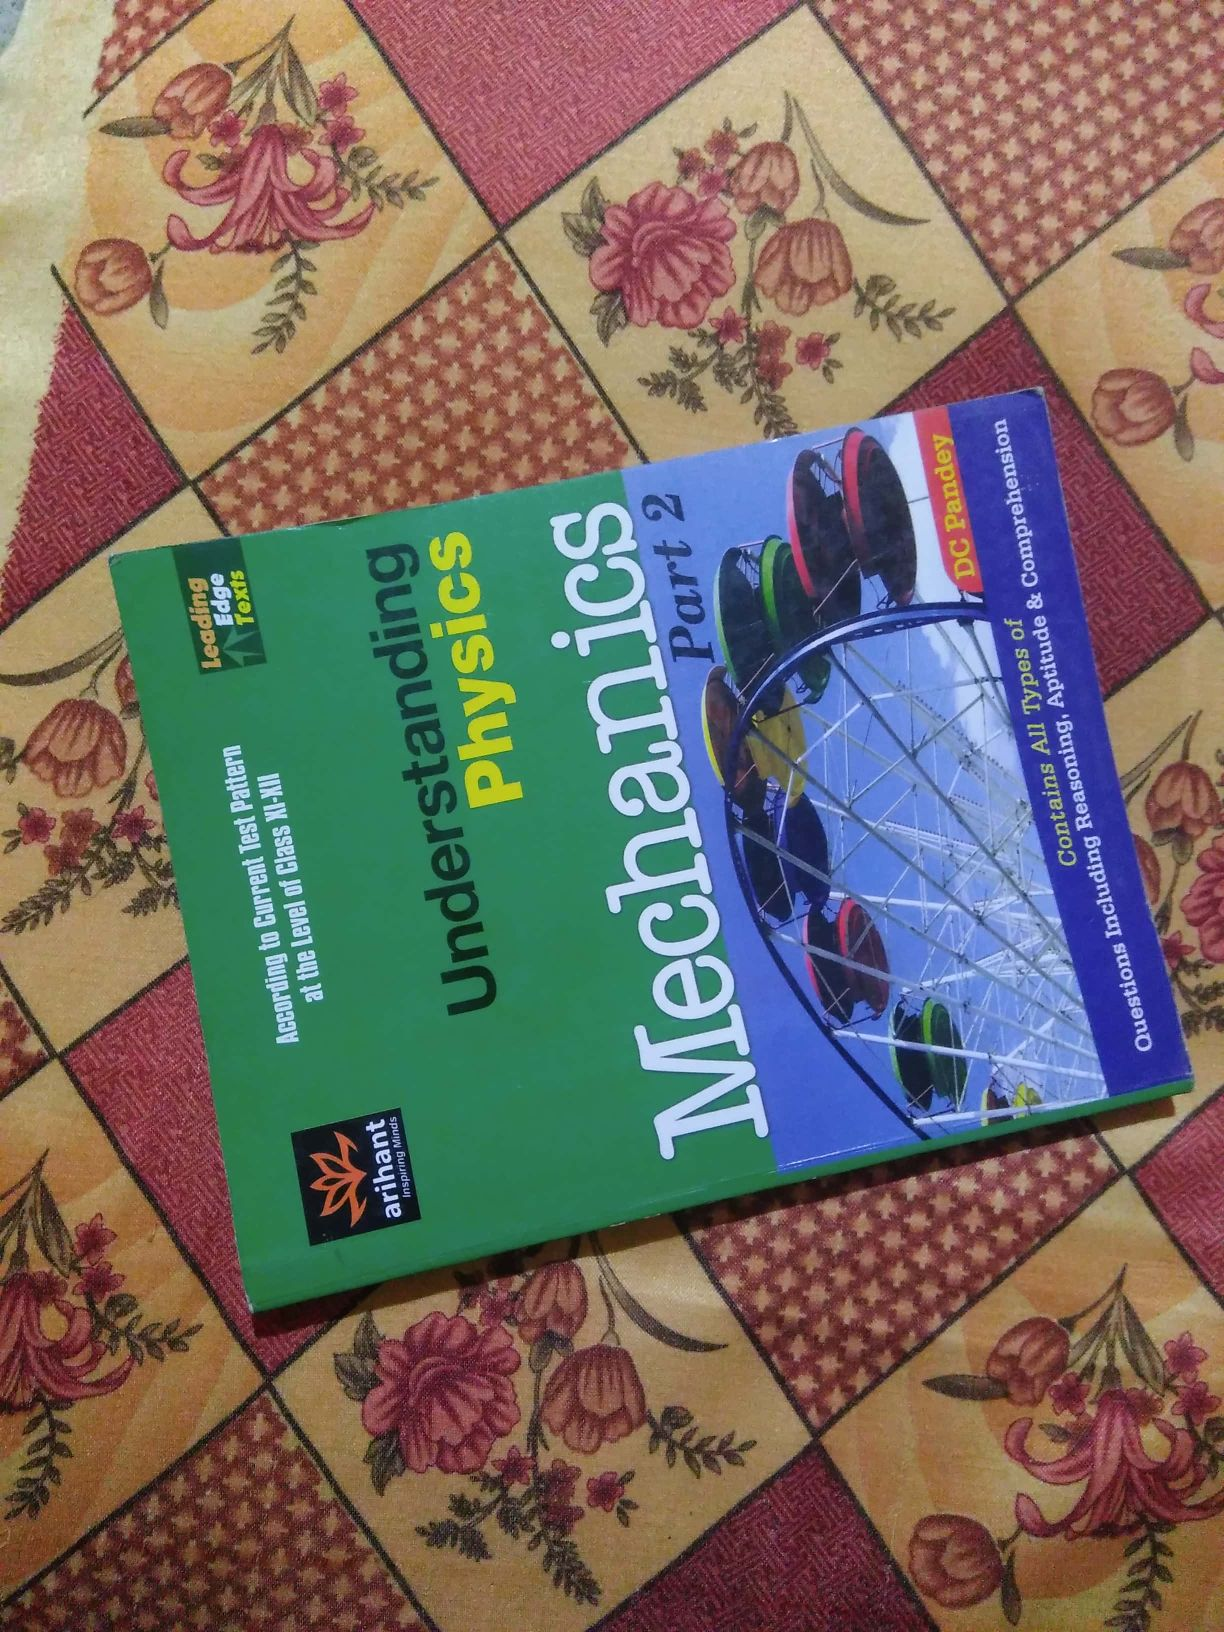mechanics: (134, 412, 1139, 1343)
